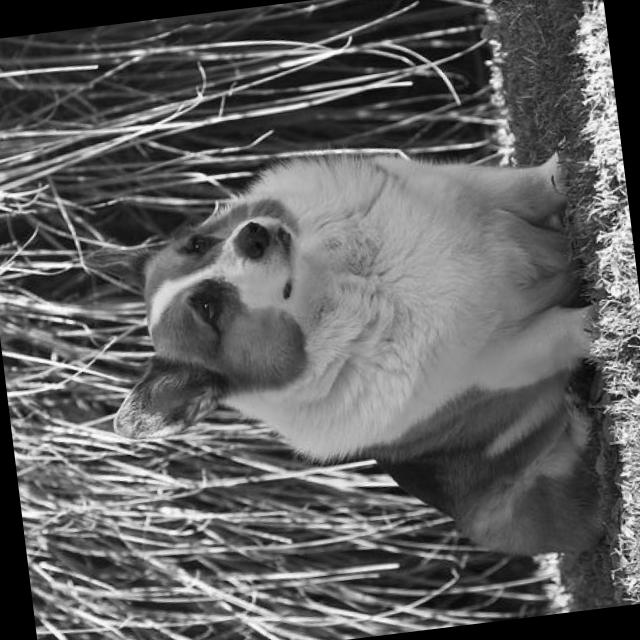sitting: (67, 108, 640, 616)
